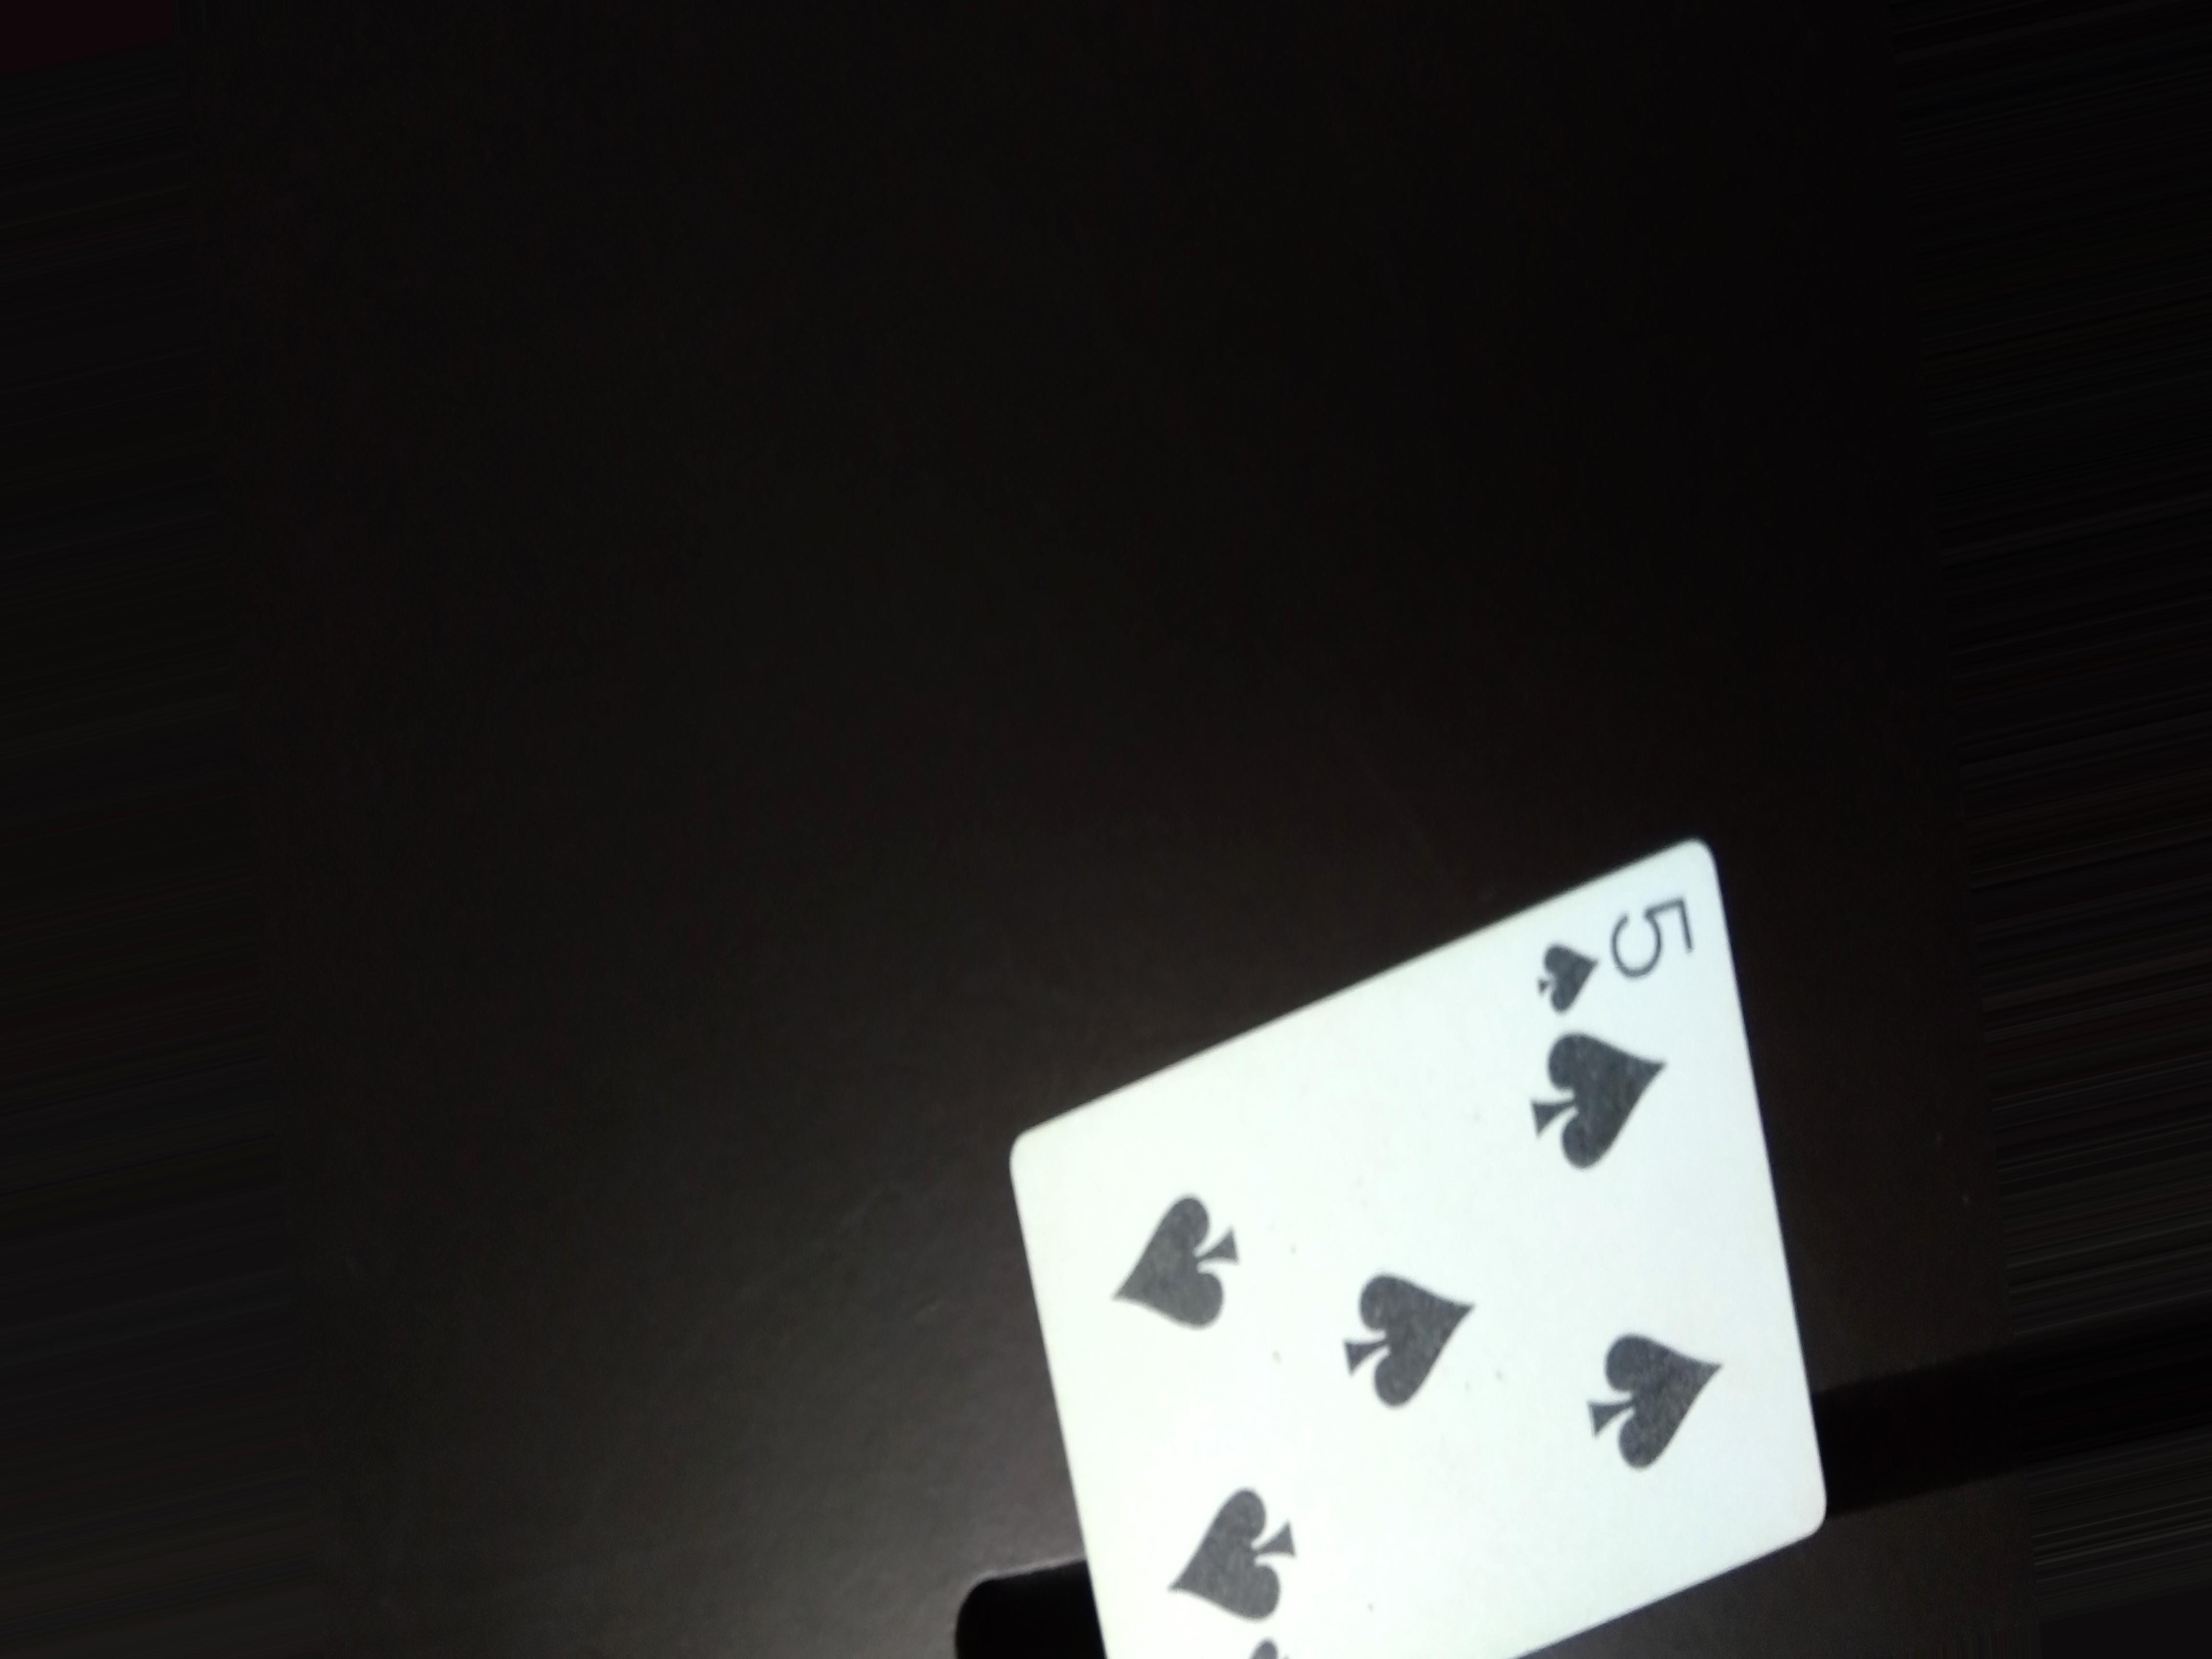5S: (1534, 887, 1702, 1018)
